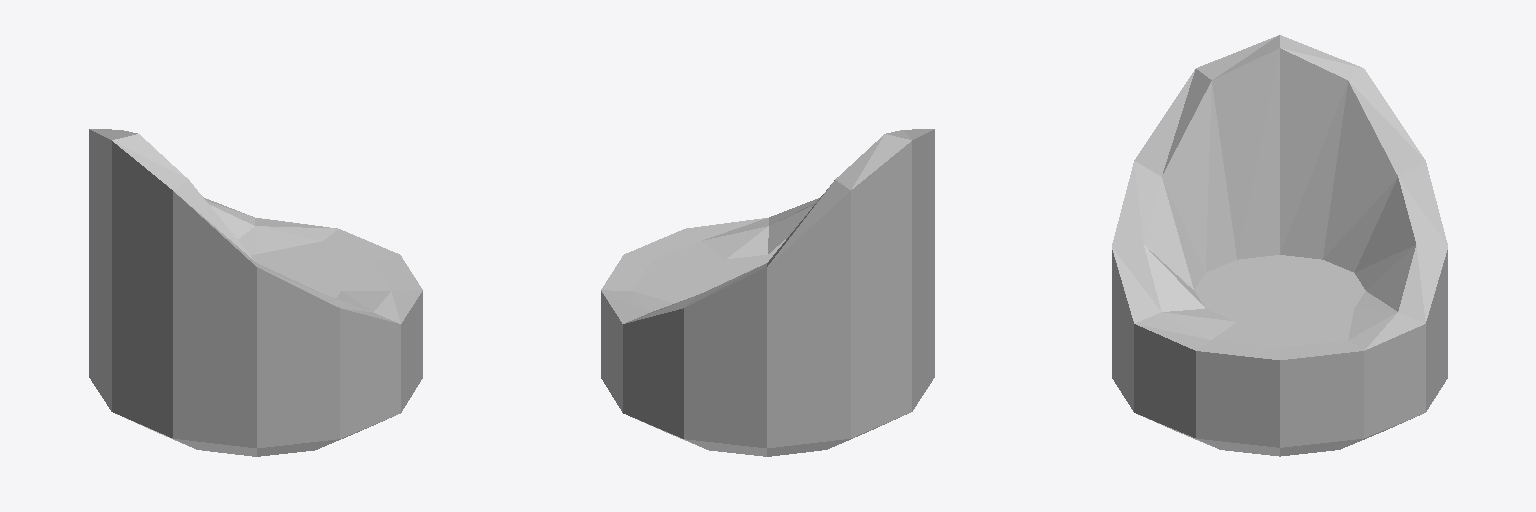
The model's file is ASSET_pouf_v1.obj.
3 views of the same model, side by side, from view 1: azimuth 30°, elevation 25°; view 2: azimuth 150°, elevation 25°; view 3: azimuth 270°, elevation 25° (orthographic).
Visible parts, largest first — view 1: POUFE_Cylinder.001; view 2: POUFE_Cylinder.001; view 3: POUFE_Cylinder.001.
Boxes of the visible parts, x1,y1,x2,y2 form: POUFE_Cylinder.001: [89, 129, 422, 456]; POUFE_Cylinder.001: [601, 129, 934, 456]; POUFE_Cylinder.001: [1112, 35, 1447, 456].
Size of the model in its own units: 1.56 by 1.56 by 1.57.